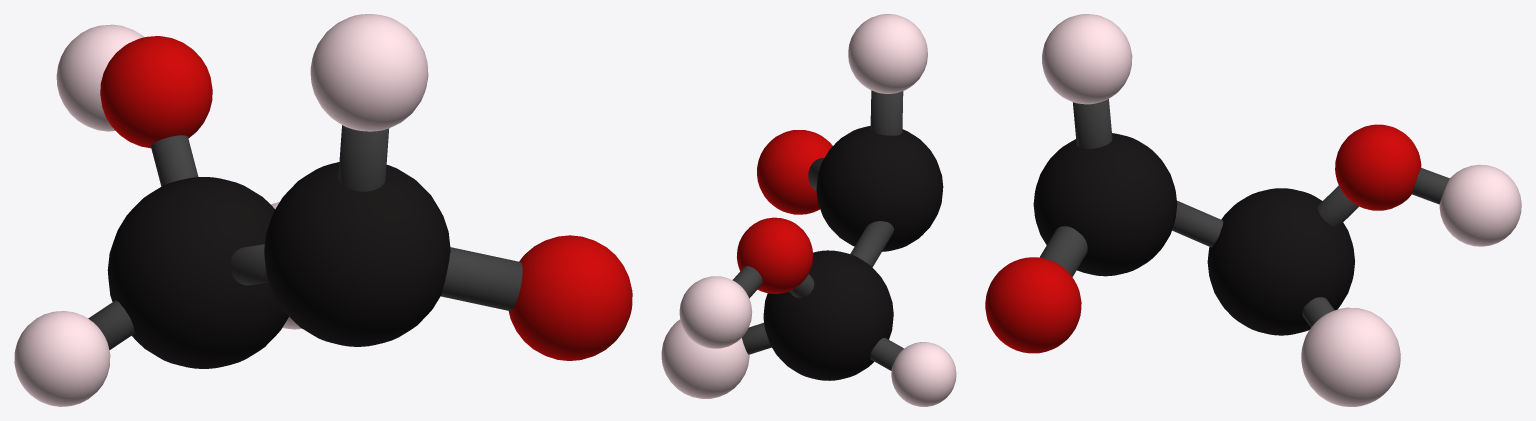
Rendered from molecula_azucar.obj.
3 views of the same model, side by side, from view 1: azimuth 30°, elevation 25°; view 2: azimuth 150°, elevation 25°; view 3: azimuth 270°, elevation 25° (orthographic). The views are drawn at different scales.
Visible parts, largest first — view 1: Sphere.001_Sphere.006, Sphere_Sphere.004, hydrogen.004_Sphere.008, hydrogen.001_Sphere.007, hydrogen_Sphere, hydrogen.003_Sphere.003, hydrogen.005_Sphere.009, bond.007_Cylinder.007, bond.006_Cylinder.006, bond_Cylinder, bond.001_Cylinder.001, bond.003_Cylinder.003; view 2: Sphere_Sphere.004, Sphere.001_Sphere.006, hydrogen.001_Sphere.007, hydrogen.004_Sphere.008, hydrogen.002_Sphere.002, hydrogen_Sphere, hydrogen.005_Sphere.009, hydrogen.003_Sphere.003, bond.006_Cylinder.006, bond.001_Cylinder.001, bond.003_Cylinder.003, bond.002_Cylinder.002 (+3 smaller); view 3: Sphere_Sphere.004, Sphere.001_Sphere.006, hydrogen.002_Sphere.002, hydrogen.004_Sphere.008, hydrogen.001_Sphere.007, hydrogen_Sphere, hydrogen.005_Sphere.009, bond.006_Cylinder.006, bond.007_Cylinder.007, bond.001_Cylinder.001, bond_Cylinder, bond.004_Cylinder.008 (+1 smaller).
Boxes of the visible parts, x1,y1,x2,y2 form: Sphere.001_Sphere.006: (264, 162, 450, 346); Sphere_Sphere.004: (107, 177, 288, 368); hydrogen.004_Sphere.008: (508, 235, 632, 360); hydrogen.001_Sphere.007: (310, 14, 428, 131); hydrogen_Sphere: (100, 36, 212, 148); hydrogen.003_Sphere.003: (14, 311, 110, 406); hydrogen.005_Sphere.009: (56, 24, 144, 131); bond.007_Cylinder.007: (441, 247, 522, 310); bond.006_Cylinder.006: (338, 125, 389, 191); bond_Cylinder: (151, 135, 198, 186); bond.001_Cylinder.001: (230, 244, 268, 285); bond.003_Cylinder.003: (88, 300, 134, 350); Sphere_Sphere.004: (763, 250, 893, 380); Sphere.001_Sphere.006: (816, 126, 943, 251); hydrogen.001_Sphere.007: (848, 14, 927, 93); hydrogen.004_Sphere.008: (757, 130, 832, 214); hydrogen.002_Sphere.002: (661, 319, 749, 398); hydrogen_Sphere: (737, 217, 813, 293); hydrogen.005_Sphere.009: (679, 276, 752, 348); hydrogen.003_Sphere.003: (891, 342, 956, 406); bond.006_Cylinder.006: (870, 90, 903, 135); bond.001_Cylinder.001: (850, 221, 893, 267); bond.003_Cylinder.003: (870, 337, 903, 370); bond.002_Cylinder.002: (742, 322, 771, 354); Sphere_Sphere.004: (1207, 188, 1354, 335); Sphere.001_Sphere.006: (1033, 133, 1177, 276); hydrogen.002_Sphere.002: (1301, 307, 1400, 406); hydrogen.004_Sphere.008: (985, 257, 1081, 353); hydrogen.001_Sphere.007: (1042, 14, 1132, 104); hydrogen_Sphere: (1335, 124, 1421, 210); hydrogen.005_Sphere.009: (1439, 164, 1521, 246); bond.006_Cylinder.006: (1073, 99, 1112, 148); bond.007_Cylinder.007: (1039, 226, 1087, 276); bond.001_Cylinder.001: (1172, 200, 1223, 247); bond_Cylinder: (1317, 185, 1358, 227); bond.004_Cylinder.008: (1412, 168, 1449, 204).
Bounding box in the file's own units: 3.58 × 3.51 × 4.91.
